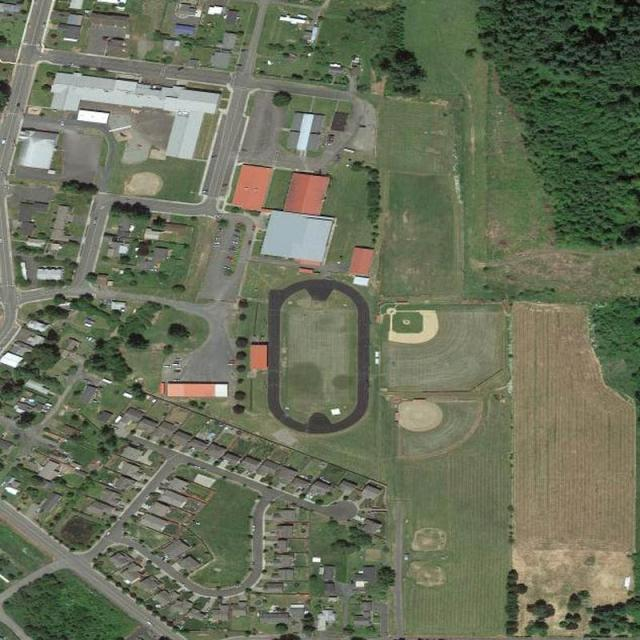vehicle: (162, 365, 171, 368)
